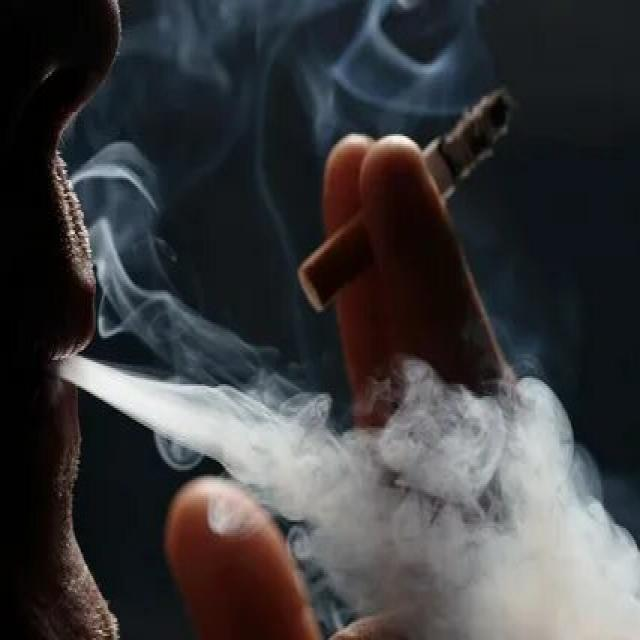smoke: (295, 78, 519, 316)
